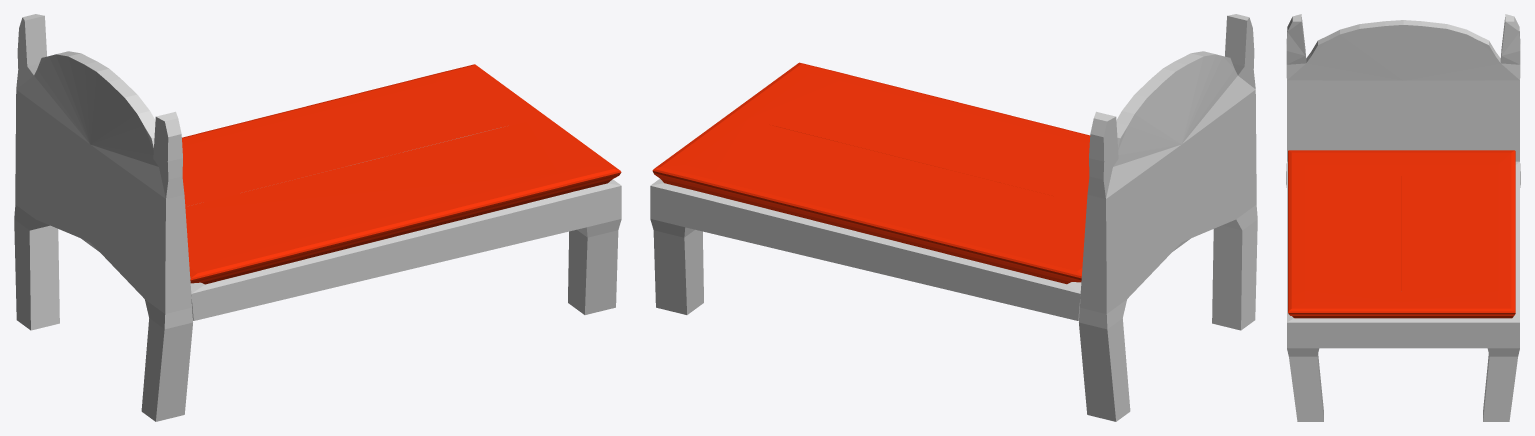
The model's file is Bed.fbx.
3 views of the same model, side by side, from view 1: azimuth 30°, elevation 25°; view 2: azimuth 150°, elevation 25°; view 3: azimuth 270°, elevation 25° (orthographic). The views are drawn at different scales.
Visible parts, largest first — view 1: Plane; view 2: Plane; view 3: Plane.
Part boxes in pixels (left/top/right/bottom): Plane: left=14, top=14, right=621, bottom=421; Plane: left=650, top=14, right=1257, bottom=421; Plane: left=1286, top=14, right=1520, bottom=421.
Size of the model in its own units: 198 by 124 by 112.
